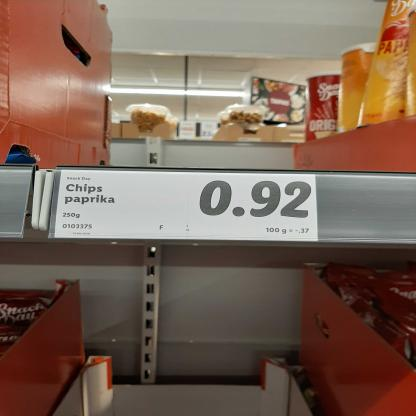prtg: (55, 171, 318, 242)
